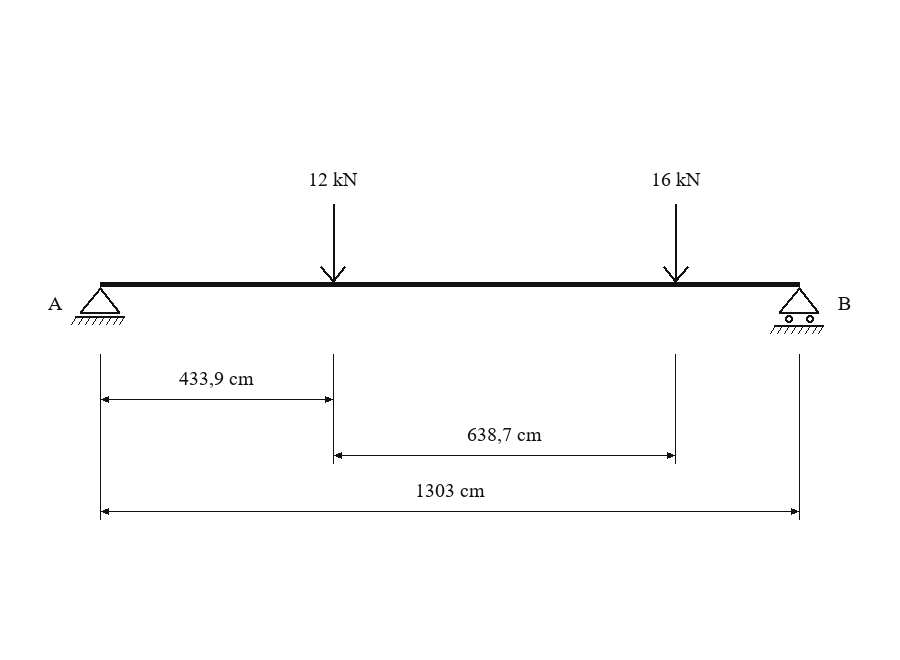pin_support: (71, 287, 125, 325)
point_load: (320, 204, 346, 283), (663, 204, 689, 283)
roller_support: (770, 287, 824, 334)
